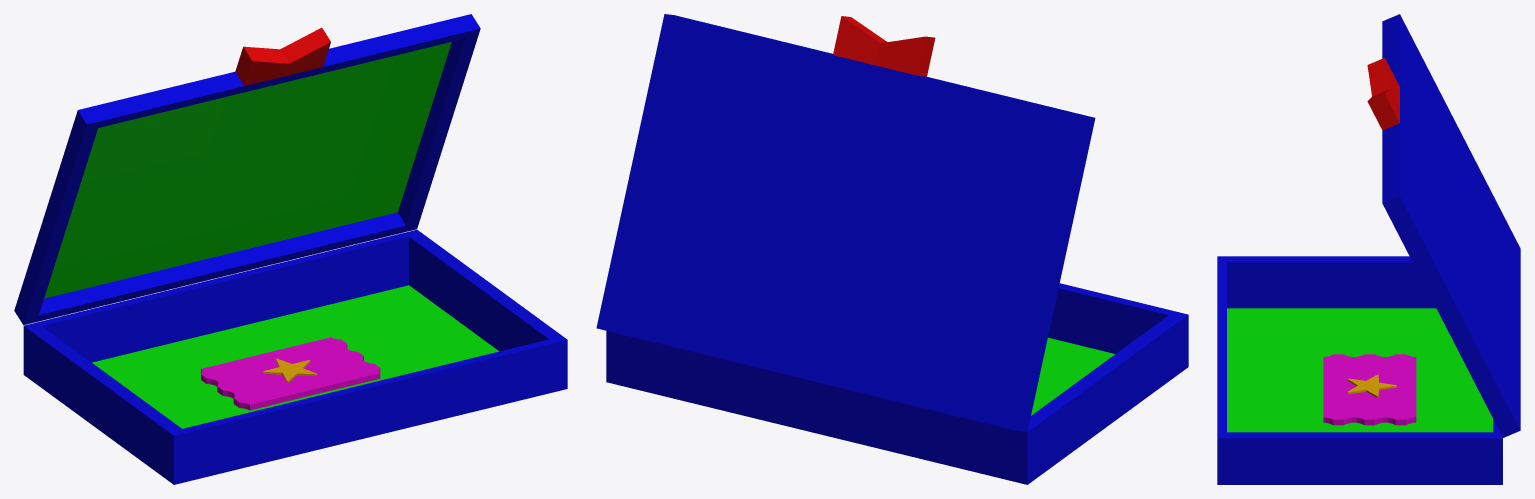
Rendered from maletin.fbx.
The picture shows the model from 3 angles, left to right: view 1: azimuth 30°, elevation 25°; view 2: azimuth 150°, elevation 25°; view 3: azimuth 270°, elevation 25°; orthographic projection. The views are drawn at different scales.
Visible parts, largest first — view 1: Maletín + ticket; view 2: Maletín + ticket; view 3: Maletín + ticket.
Part boxes in pixels (box(x1,y1,x2,y2)): Maletín + ticket: box(14, 14, 567, 484); Maletín + ticket: box(596, 14, 1188, 484); Maletín + ticket: box(1217, 14, 1520, 484).
Size of the model in its own units: 1 by 0.8174 by 0.7064.
